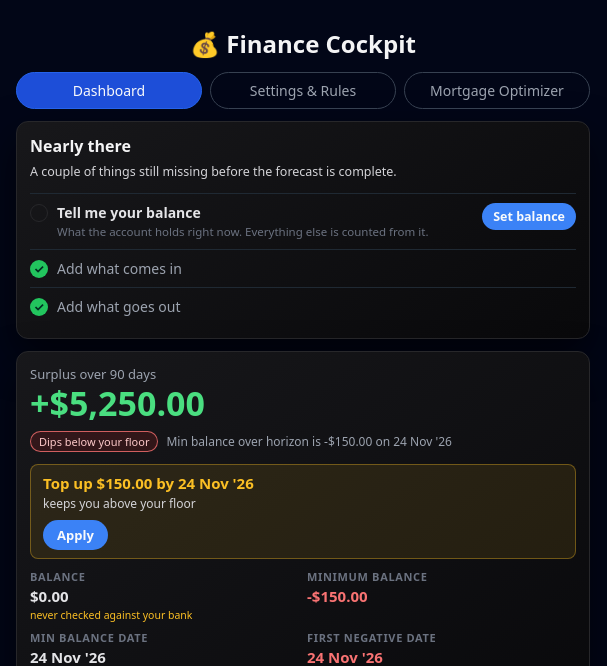
Test: App shell › applying the single top-up hint creates an inflow and clears the hint
This screenshot has width=607, height=666.
Click the button "Settings & Rules" at (303, 90), box [210, 72, 396, 109]
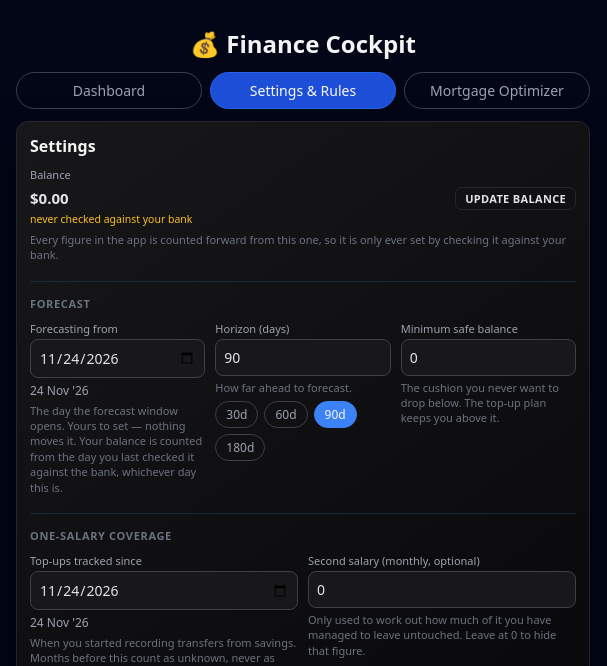
Replace the text in the field labelled "Minimum safe balance" with "1000" at (488, 357), box [401, 339, 576, 376]
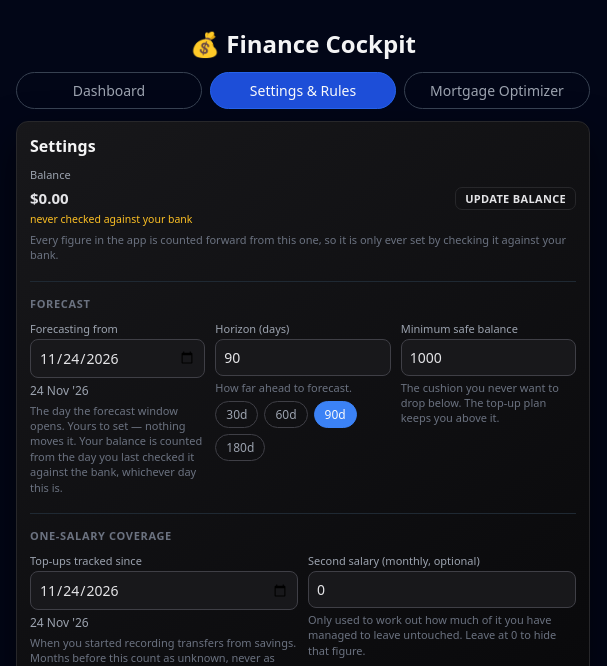
Click the button "Dashboard" at (109, 90), box [16, 72, 202, 109]
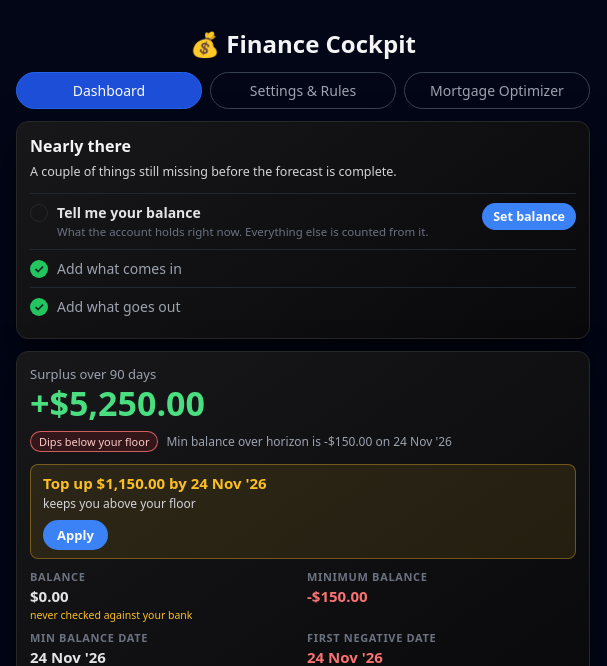
Expected: the text "Top up $1,150.00 by 24 Nov '26" is shown, [43, 472, 267, 492]
Click the button with aria-label "Apply transfer of" at (75, 534), box [43, 520, 108, 550]
(page scrolled)
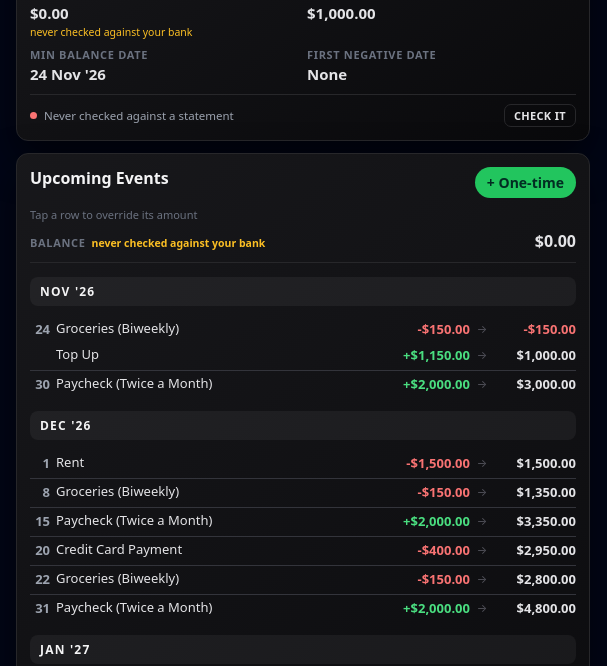
Expected: the text "Top Up" is shown, [56, 345, 99, 363]
Expected: the text "Top up $" is gone
